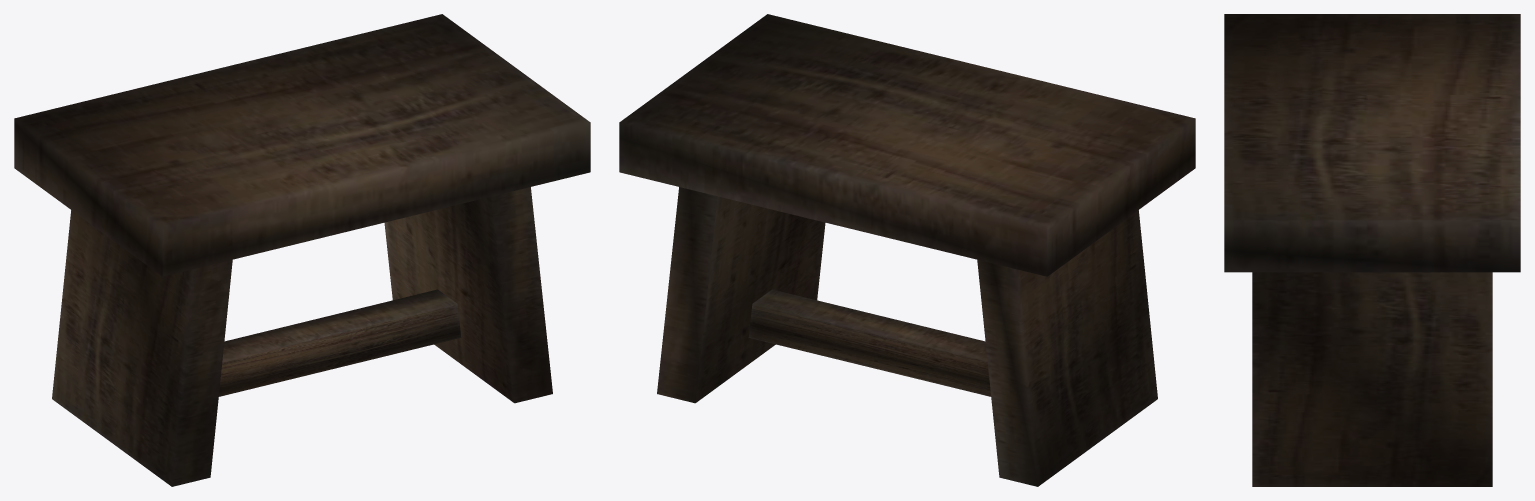
Rendered from Tv_Stool_Wood.glb.
3 views of the same model, side by side, from view 1: azimuth 30°, elevation 25°; view 2: azimuth 150°, elevation 25°; view 3: azimuth 270°, elevation 25° (orthographic).
Parts seen in each view (by area): view 1: chair_wood; view 2: chair_wood; view 3: chair_wood.
Part boxes in pixels (bbox=[...]): chair_wood: bbox=[14, 14, 590, 486]; chair_wood: bbox=[619, 14, 1195, 486]; chair_wood: bbox=[1224, 14, 1520, 486].
Size of the model in its own units: 0.7466 by 0.46 by 0.448.
1 material, 1 textured.
